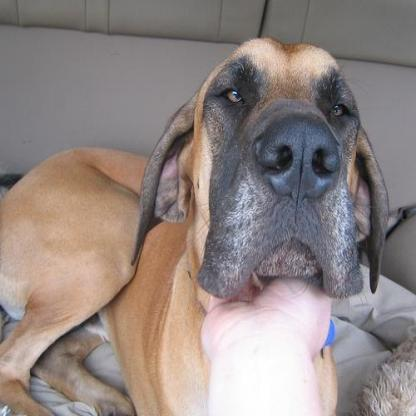Great_Dane: (1, 37, 387, 412)
